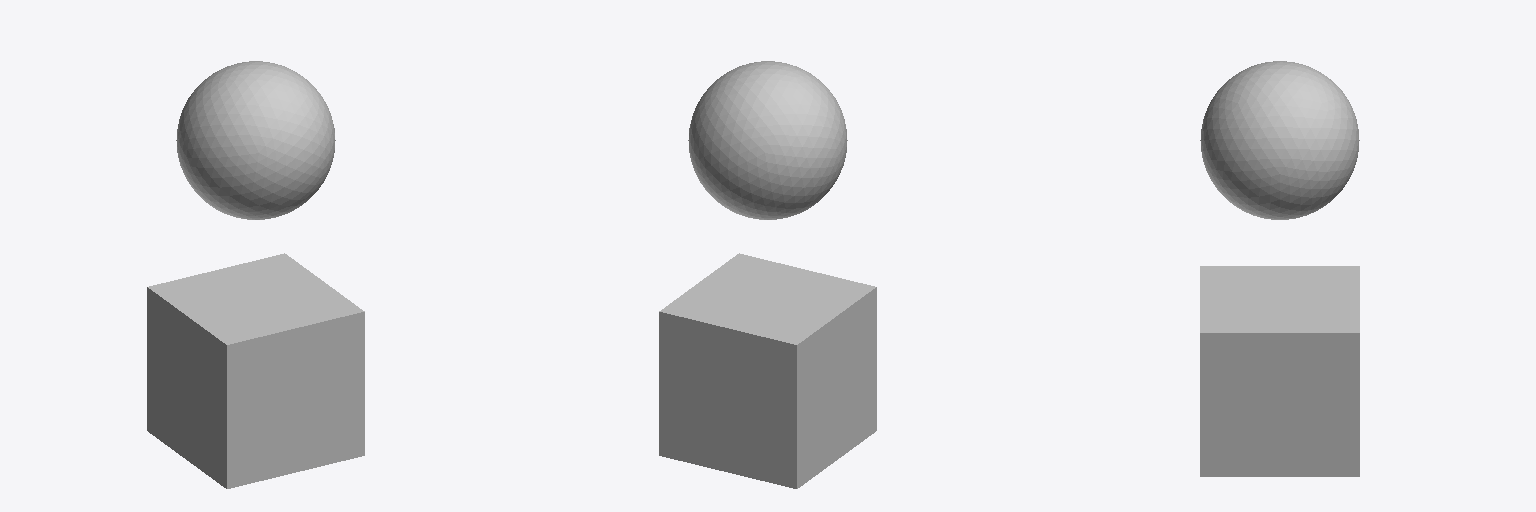
The model's file is cube[0.4,0,0] sphere[-0.4,0,0]_rotY90.obj.
3 renders of one model, left to right at view 1: azimuth 30°, elevation 25°; view 2: azimuth 150°, elevation 25°; view 3: azimuth 270°, elevation 25°, orthographic.
Parts seen in each view (by area): view 1: Cube.002_Cube.003; view 2: Cube.002_Cube.003; view 3: Cube.002_Cube.003.
Part boxes in pixels (bbox=[...]): Cube.002_Cube.003: bbox=[147, 61, 364, 488]; Cube.002_Cube.003: bbox=[659, 61, 876, 488]; Cube.002_Cube.003: bbox=[1200, 61, 1359, 476].
Size of the model in its own units: 0.5 by 1.3 by 0.5.